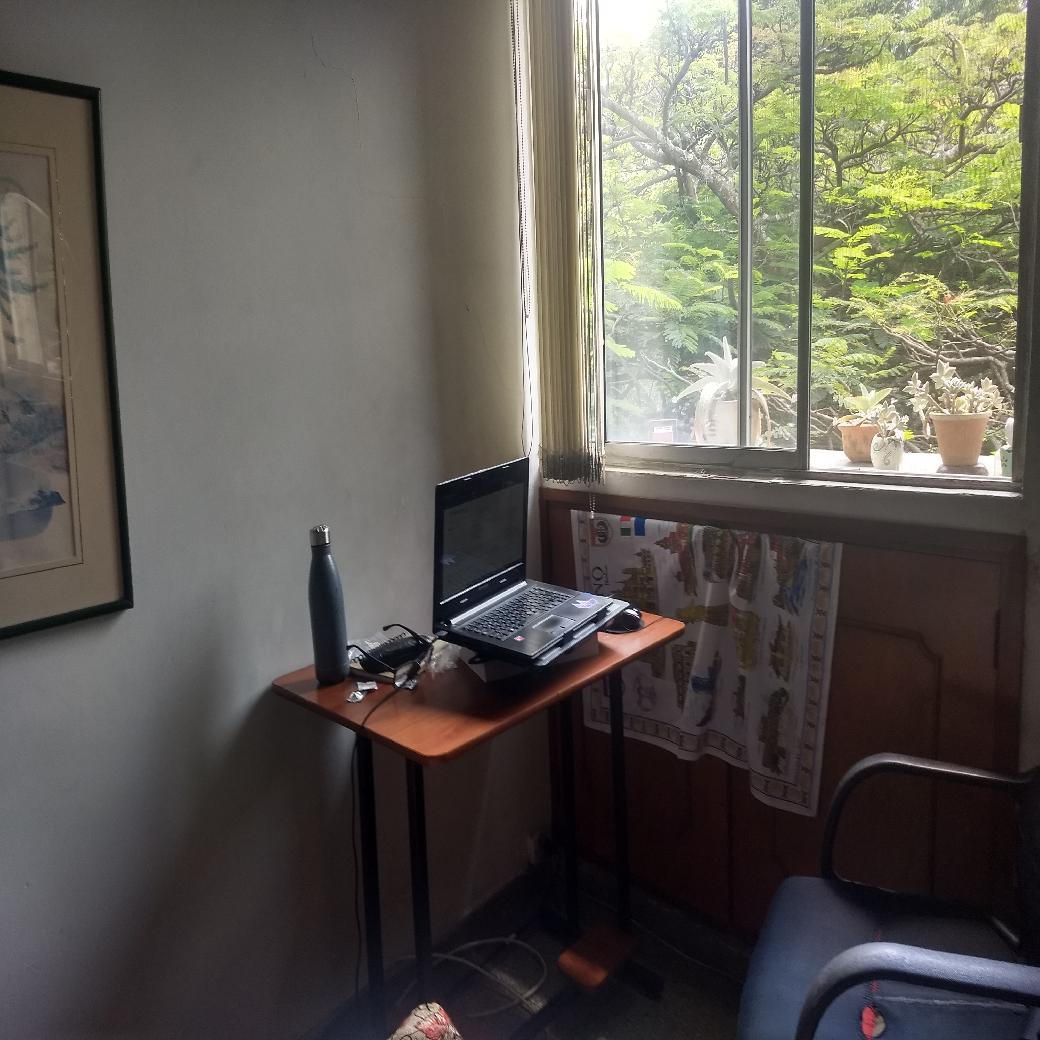laptop: (432, 457, 610, 664)
